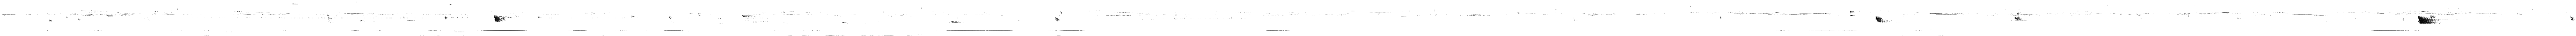meteor: (2418, 15, 2440, 25), (494, 15, 513, 23), (1876, 16, 1889, 23), (741, 15, 754, 18), (1055, 16, 1060, 21), (2571, 15, 2574, 20)
